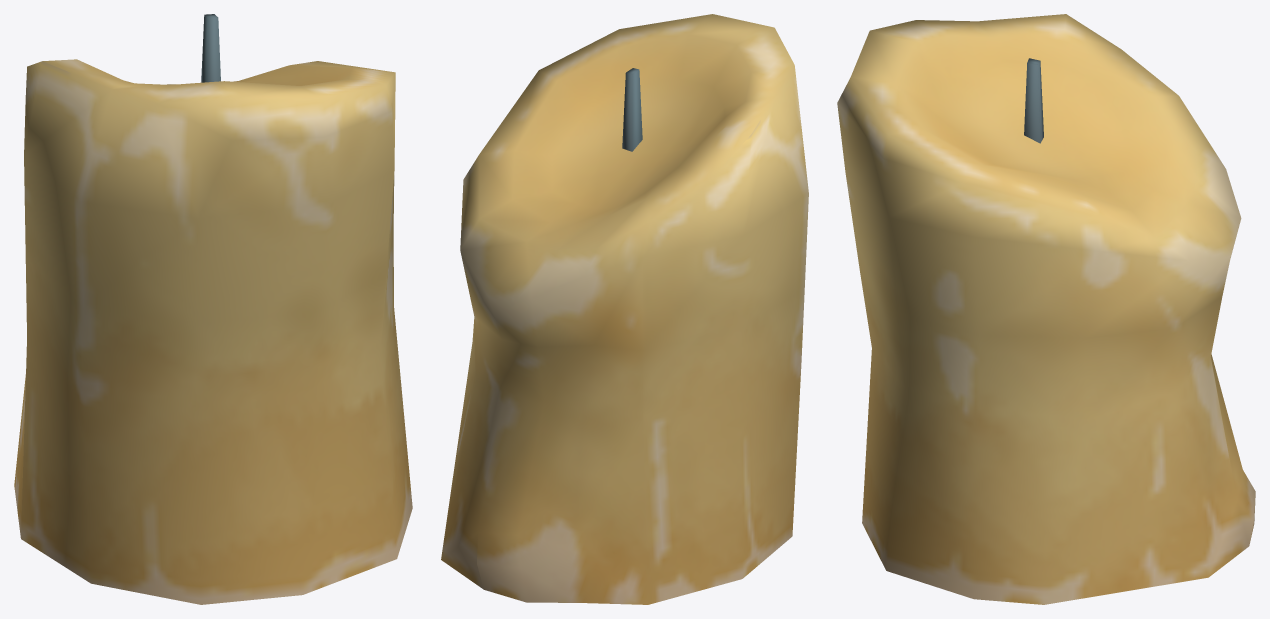
Rendered from Candle_1.gltf.
3 renders of one model, left to right at view 1: azimuth 30°, elevation 25°; view 2: azimuth 150°, elevation 25°; view 3: azimuth 270°, elevation 25°, orthographic. The views are drawn at different scales.
Parts seen in each view (by area): view 1: Candle_1; view 2: Candle_1; view 3: Candle_1.
Boxes of the visible parts, left/top/right/bottom form: Candle_1: left=14, top=14, right=412, bottom=604; Candle_1: left=441, top=14, right=808, bottom=604; Candle_1: left=837, top=14, right=1255, bottom=604.
Bounding box in the file's own units: 0.0939 × 0.132 × 0.1079.
1 material, 1 textured.
